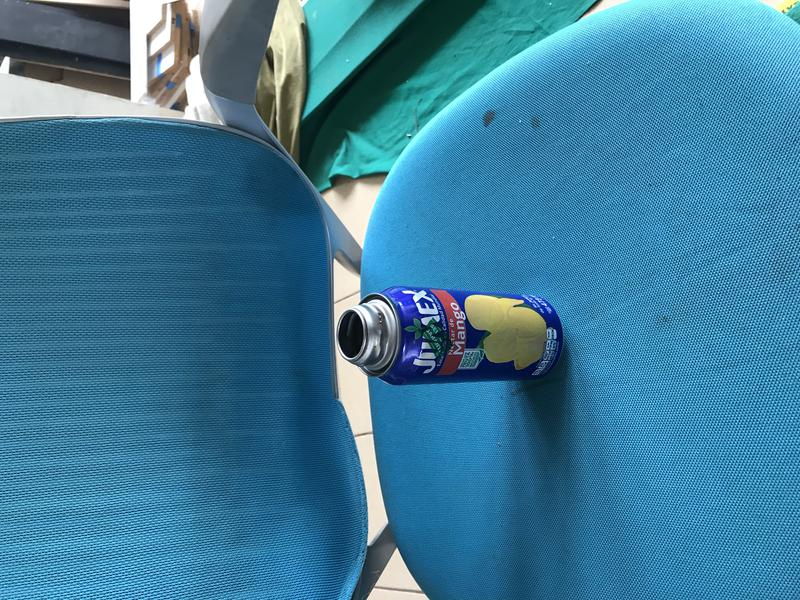jumex_botella: (336, 287, 566, 385)
